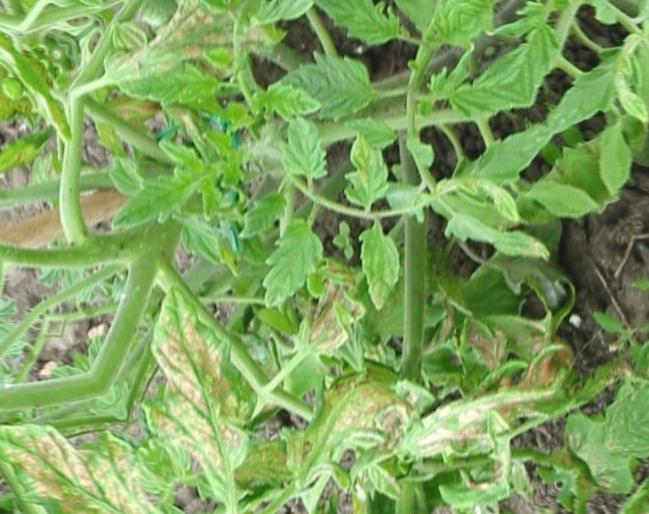Tomato leaf mosaic virus: (263, 29, 386, 148), (118, 28, 238, 144), (434, 181, 551, 299), (96, 149, 212, 250), (448, 109, 558, 208), (232, 211, 338, 312), (332, 217, 423, 311), (307, 0, 415, 68), (325, 127, 410, 212), (266, 108, 343, 187), (167, 0, 249, 32), (342, 499, 453, 514)
